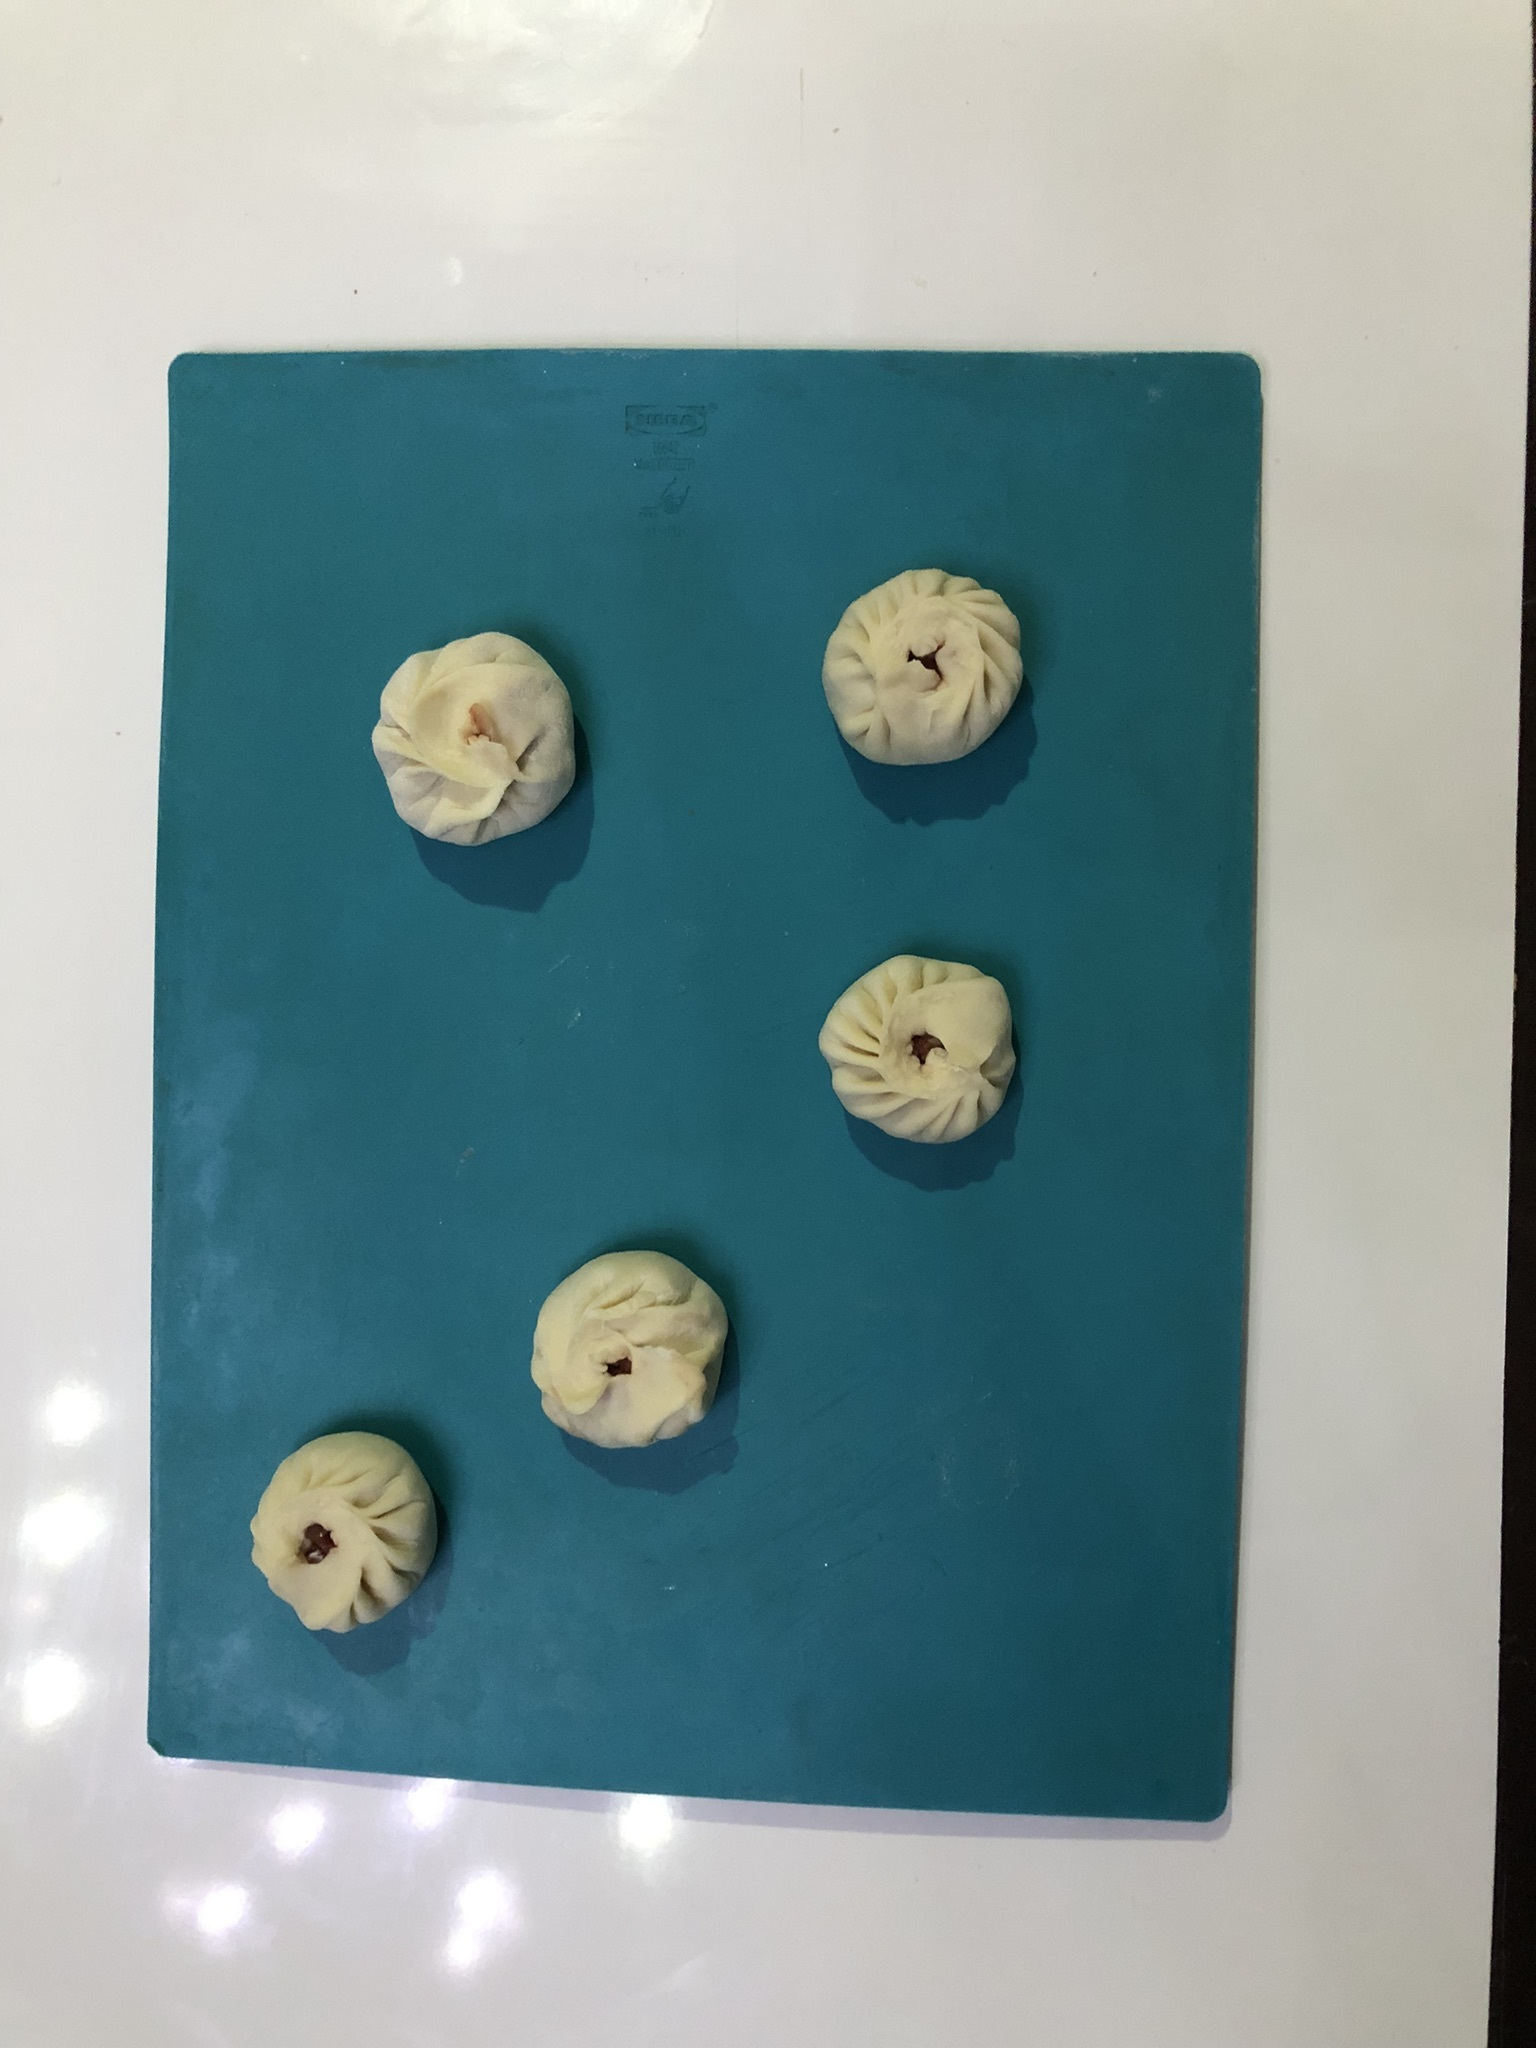buuz: (361, 619, 591, 855), (523, 1238, 749, 1467), (808, 939, 1029, 1171), (813, 556, 1033, 784), (239, 1421, 453, 1645)
